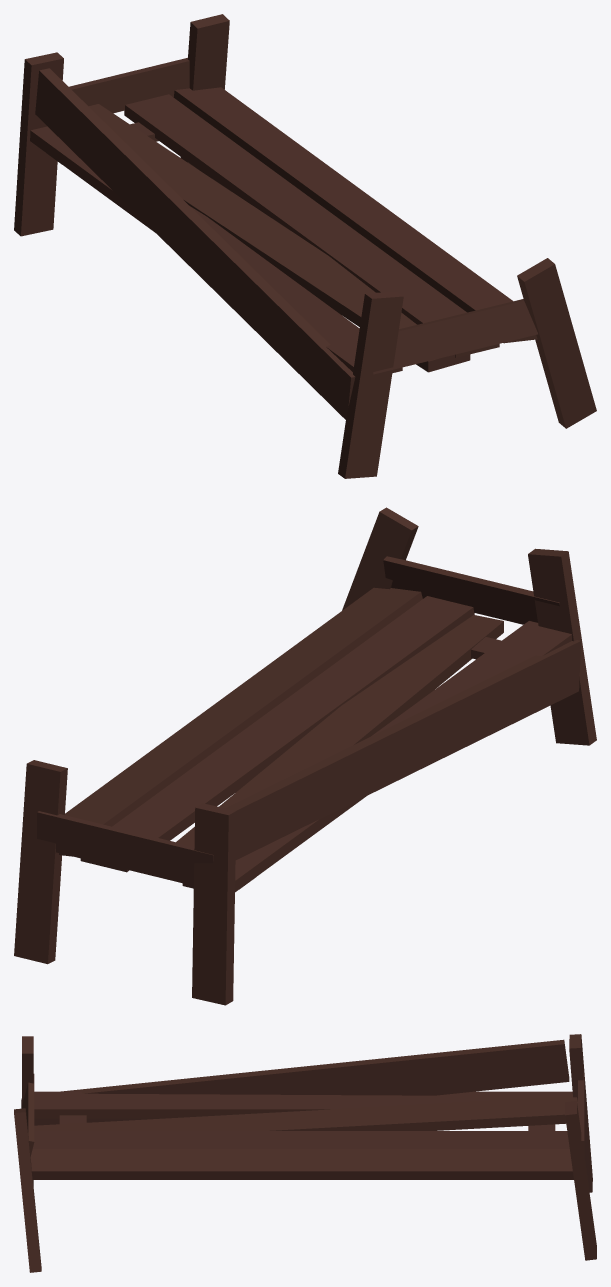
Rendered from SM_BedBroken.fbx.
The picture shows the model from 3 angles, top to bottom: view 1: azimuth 30°, elevation 25°; view 2: azimuth 150°, elevation 25°; view 3: azimuth 270°, elevation 25°; orthographic projection. The views are drawn at different scales.
Visible parts, largest first — view 1: Bed_Broken; view 2: Bed_Broken; view 3: Bed_Broken.
Boxes of the visible parts, x1,y1,x2,y2 form: Bed_Broken: [14, 14, 596, 478]; Bed_Broken: [14, 507, 596, 1005]; Bed_Broken: [14, 1034, 596, 1272].
Size of the model in its own units: 5.84 by 3.96 by 13.77.
